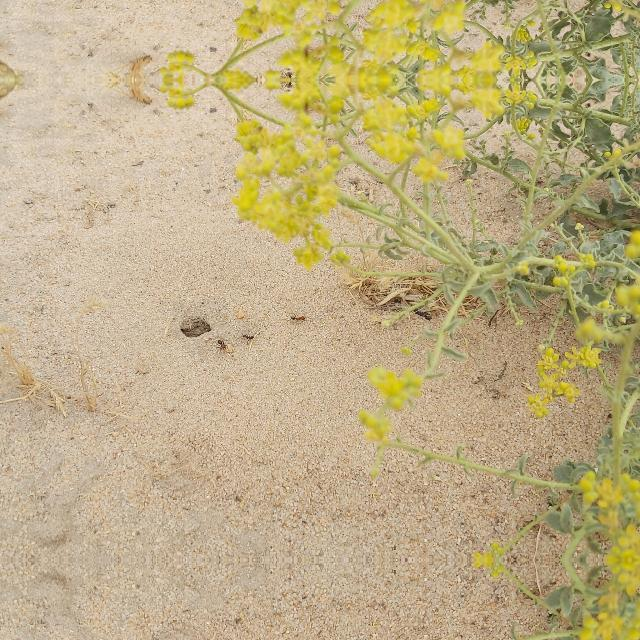Cataglyphis: (285, 310, 309, 322), (215, 338, 229, 352), (241, 332, 257, 342)
